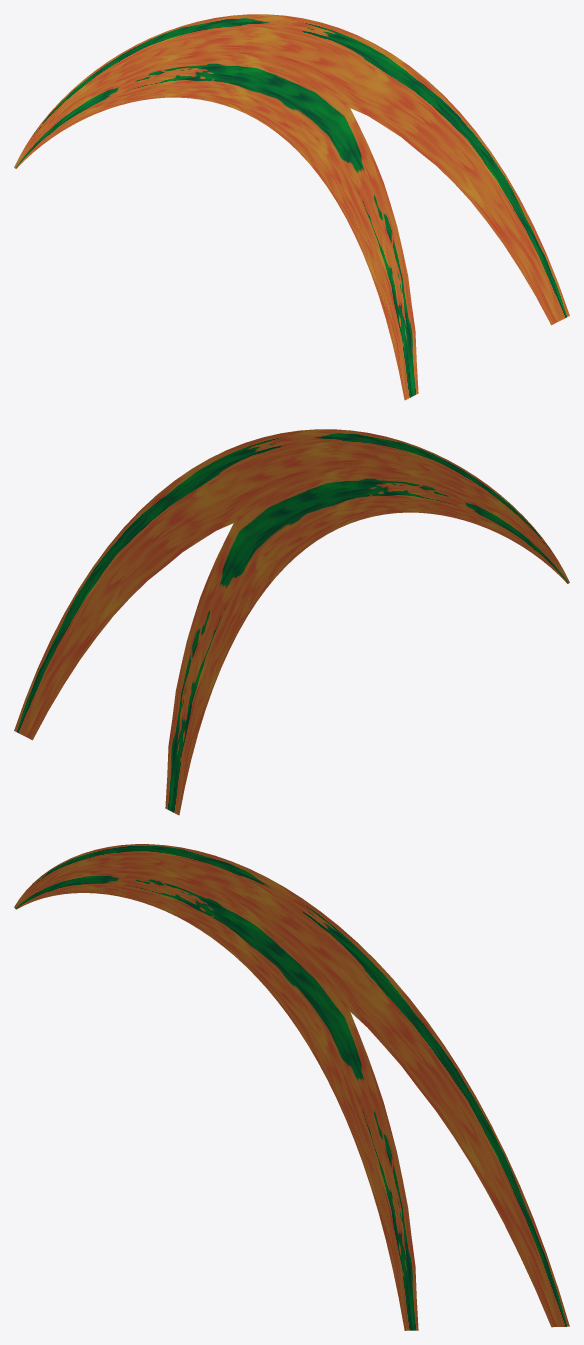
File: p_trashbot_loop_sprinkler02_pose0.fbx
3 renders of one model, top to bottom at view 1: azimuth 30°, elevation 25°; view 2: azimuth 150°, elevation 25°; view 3: azimuth 330°, elevation 25°, orthographic.
Parts seen in each view (by area): view 1: p_sprinkler_plane_02_pose0; view 2: p_sprinkler_plane_02_pose0; view 3: p_sprinkler_plane_02_pose0.
Boxes of the visible parts, left/top/right/bottom form: p_sprinkler_plane_02_pose0: left=14, top=14, right=569, bottom=400; p_sprinkler_plane_02_pose0: left=14, top=429, right=569, bottom=815; p_sprinkler_plane_02_pose0: left=14, top=844, right=569, bottom=1330.
Bounding box in the file's own units: 77.91 × 57.52 × 1.28e-06.
